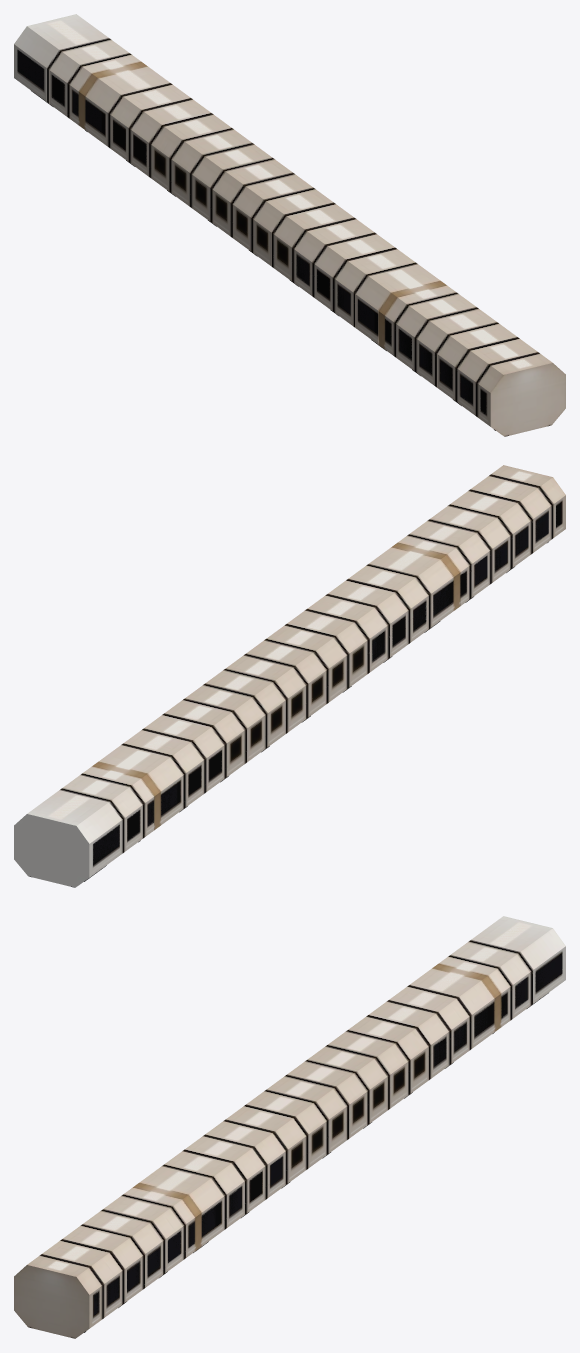
File: corridor_m.glb
3 renders of one model, top to bottom at view 1: azimuth 30°, elevation 25°; view 2: azimuth 150°, elevation 25°; view 3: azimuth 330°, elevation 25°, orthographic.
Visible parts, largest first — view 1: cor_baked; view 2: cor_baked; view 3: cor_baked.
Boxes of the visible parts, x1,y1,x2,y2 form: cor_baked: (14, 14, 565, 436); cor_baked: (14, 465, 565, 887); cor_baked: (14, 916, 565, 1338).
Size of the model in its own units: 6.4 by 5.04 by 70.
2 materials, 1 textured.
